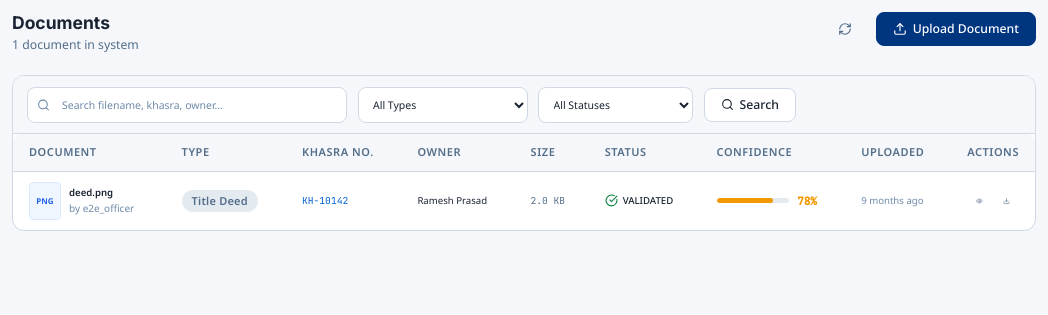
Test case: DocumentsPage view and download actions › explains an unprocessed document instead of showing an empty table
The width and height of the screenshot is (1048, 315).
Click the button titled "View details". click: click(980, 201)
box: [967,191,992,211]
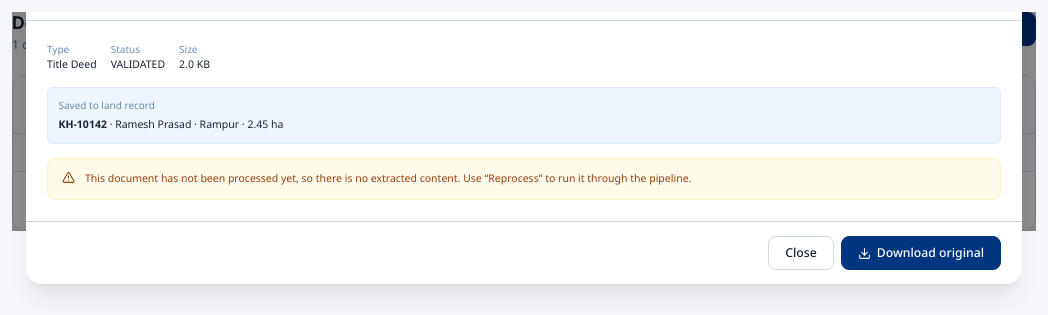
Now the text "has not been processed yet" is shown, box [85,171,691,185]
